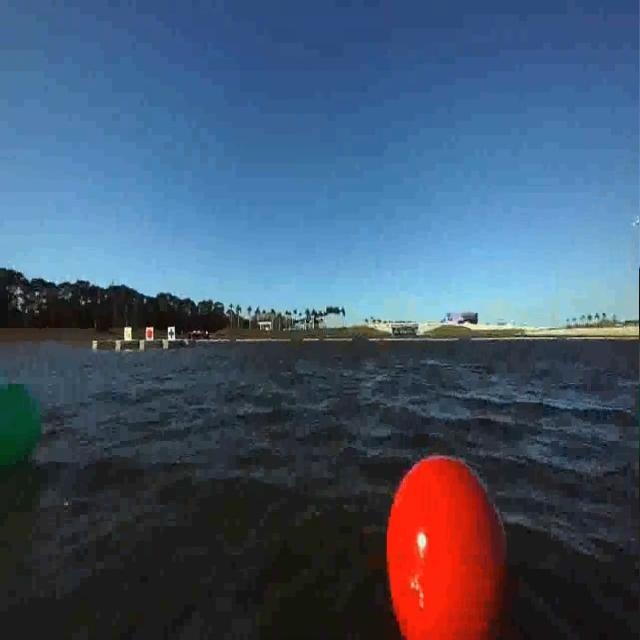green-buoy: (0, 368, 41, 479)
red-buoy: (378, 451, 510, 640)
